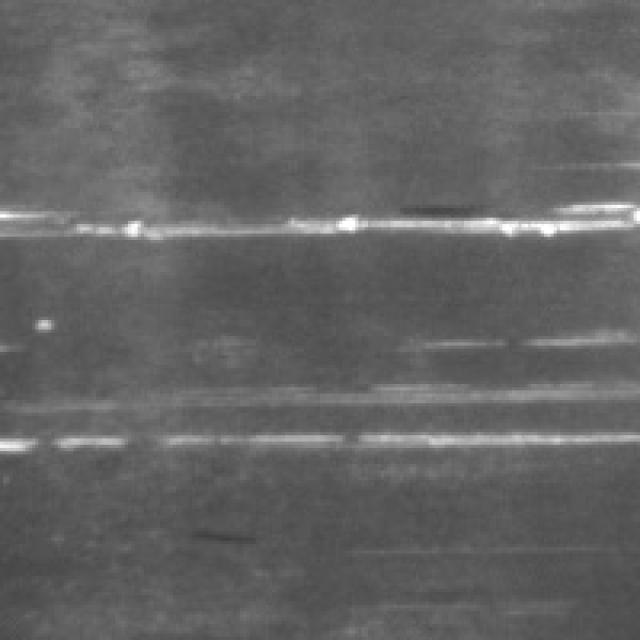scratches: (10, 368, 640, 451), (10, 185, 640, 243)
